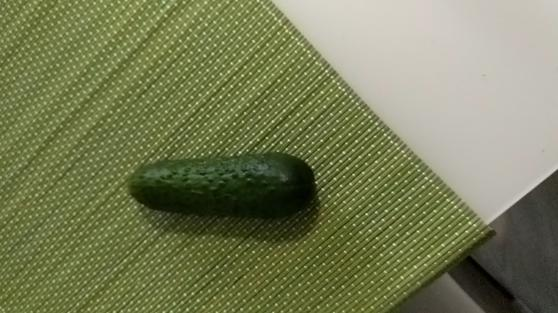cucumber: (125, 151, 320, 219)
